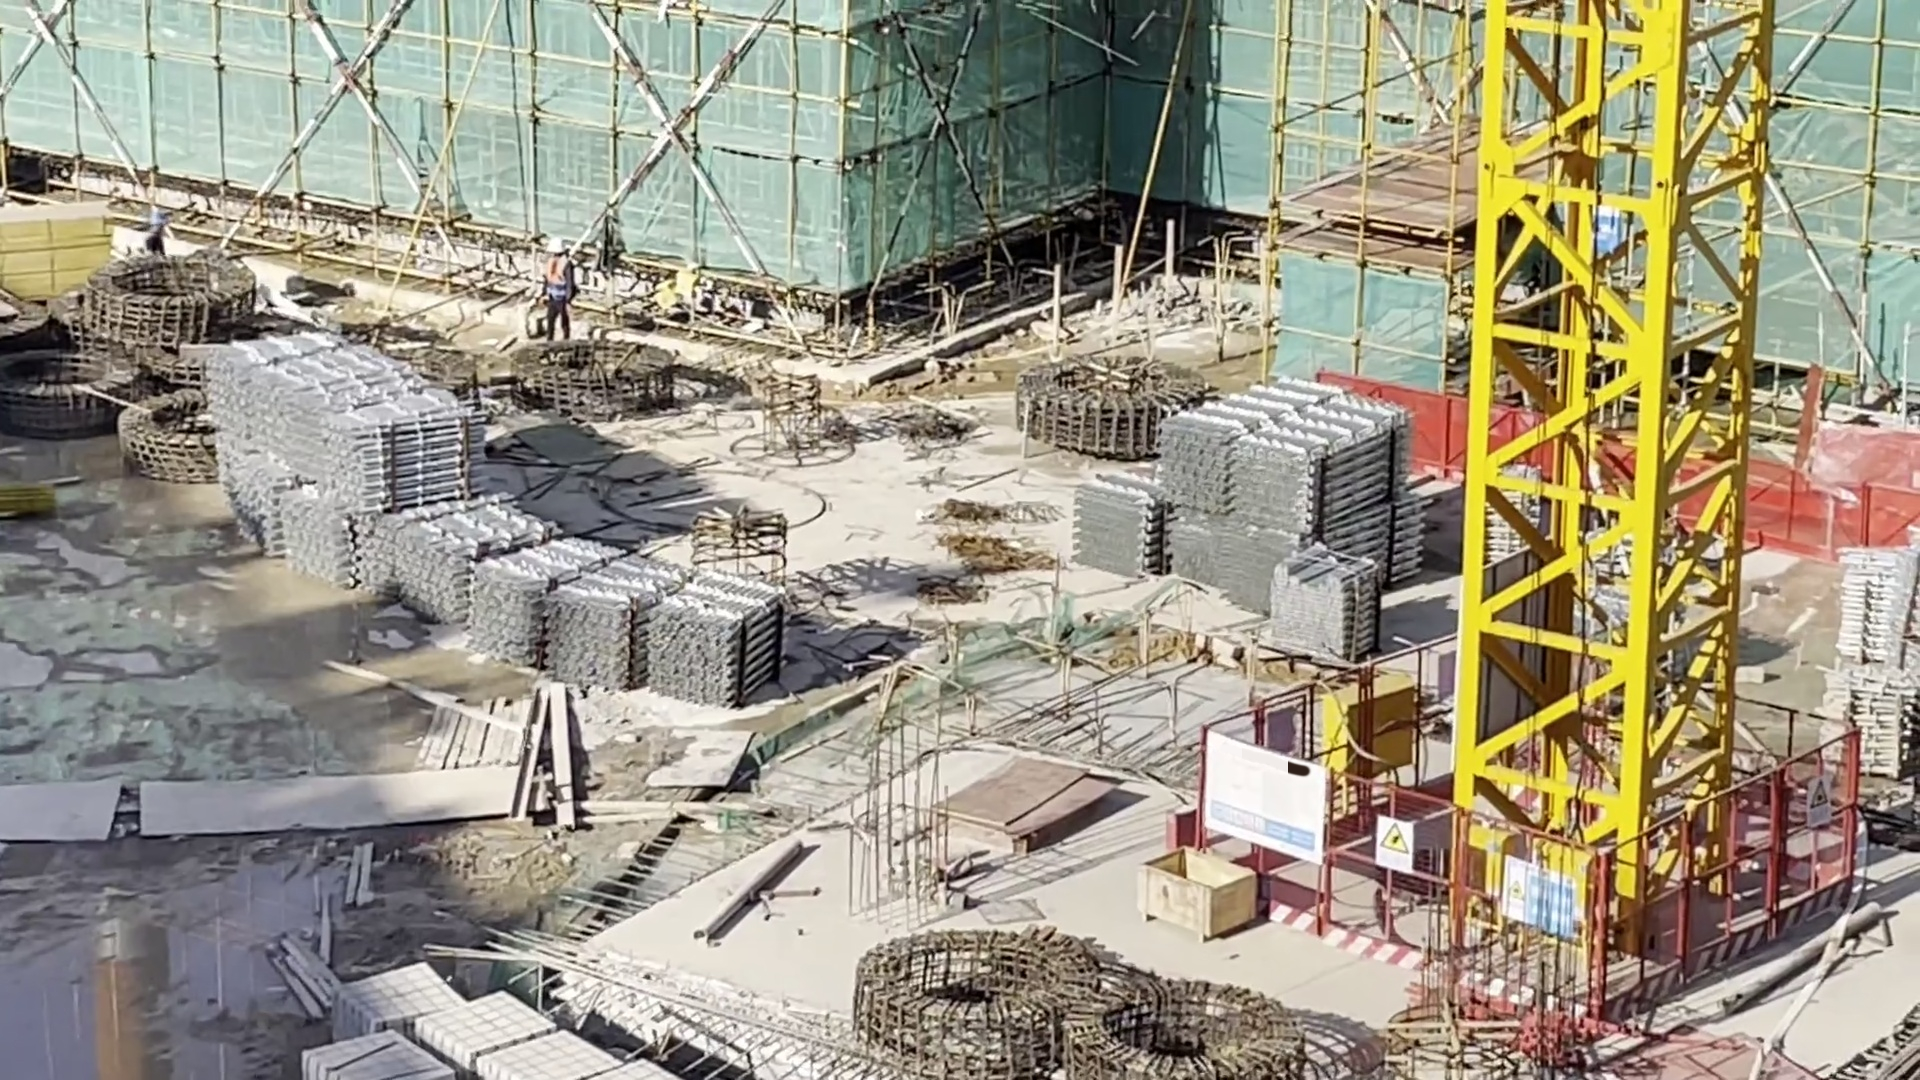board: (936, 764, 1104, 854), (1, 196, 116, 299)
brick: (288, 951, 615, 1080)
ebox: (1324, 670, 1415, 773)
fence: (1751, 430, 1920, 560), (1333, 377, 1467, 474)
helmet: (546, 237, 565, 253)
person: (540, 237, 577, 345)
scaffold: (205, 335, 466, 591), (1158, 383, 1428, 606), (483, 541, 689, 683), (1825, 556, 1920, 766), (652, 580, 790, 711), (401, 510, 558, 623), (1277, 558, 1381, 662), (1076, 471, 1169, 575)
slogan: (1498, 857, 1574, 946), (1377, 820, 1413, 868), (1806, 773, 1835, 826)
vest: (542, 261, 566, 300)
